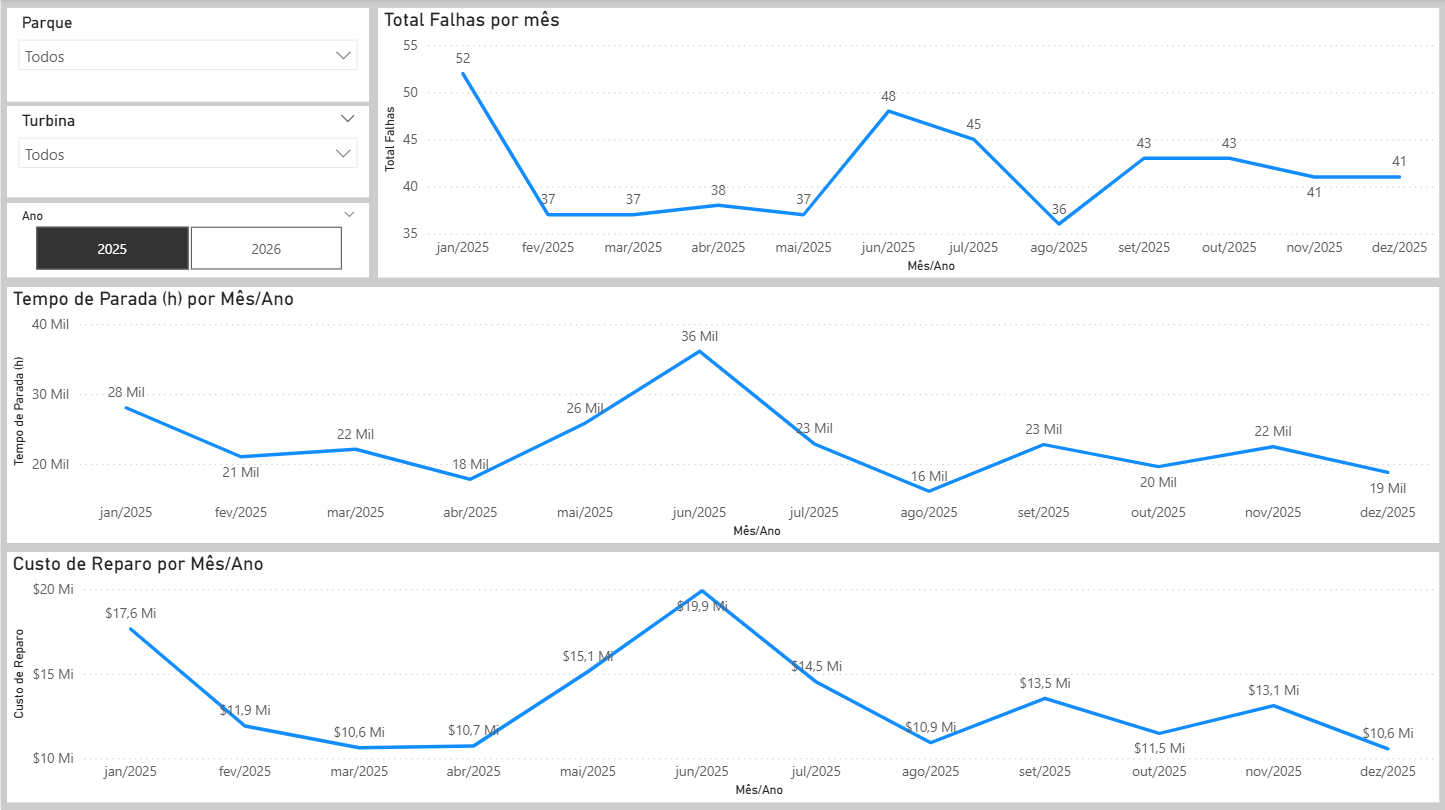

What the dashboard file says about the page in this screenshot:
{"tool":"powerbi","page":{"name":"Tendência Operacional","canvas":[1280,720],"ordinal":2},"visuals":[{"type":"lineChart","title":"Total Falhas por mês","fields":{"Y":["base_manutencao_aerogeradores_powerbi.Total Falhas"],"Category":["Calendario.Mes Ano"]},"box":[334,8,941,239],"z":0},{"type":"lineChart","fields":{"Y":["Sum(base_manutencao_aerogeradores_powerbi.Tempo_Parada_h)"],"Category":["Calendario.Mes Ano"]},"box":[5,255,1270,227],"z":1000},{"type":"lineChart","fields":{"Y":["Sum(base_manutencao_aerogeradores_powerbi.Custo_Reparo)"],"Category":["Calendario.Mes Ano"]},"box":[5,490,1270,221.9],"z":2000},{"type":"slicer","fields":{"Values":["base_manutencao_aerogeradores_powerbi.Parque"]},"box":[5,8,321,83],"z":3000},{"type":"slicer","fields":{"Values":["base_manutencao_aerogeradores_powerbi.Turbina"]},"box":[5.2,94.8,321,81],"z":4000},{"type":"slicer","fields":{"Values":["Calendario.Ano"]},"box":[5,181,321,66],"z":4001}]}

Visuals, with their boxes in screenshot pixels (x1, y1, x2, y2), scaled from the page's 1280x720 canvas onto the 1445x810 screenshot:
"Total Falhas por mês" lineChart: (377,9,1439,278)
lineChart - Sum(base_manutencao_aerogeradores_powerbi.Tempo_Parada_h) x Calendario.Mes Ano: (6,287,1439,542)
lineChart - Sum(base_manutencao_aerogeradores_powerbi.Custo_Reparo) x Calendario.Mes Ano: (6,551,1439,801)
slicer - base_manutencao_aerogeradores_powerbi.Parque: (6,9,368,102)
slicer - base_manutencao_aerogeradores_powerbi.Turbina: (6,107,368,198)
slicer - Calendario.Ano: (6,204,368,278)
